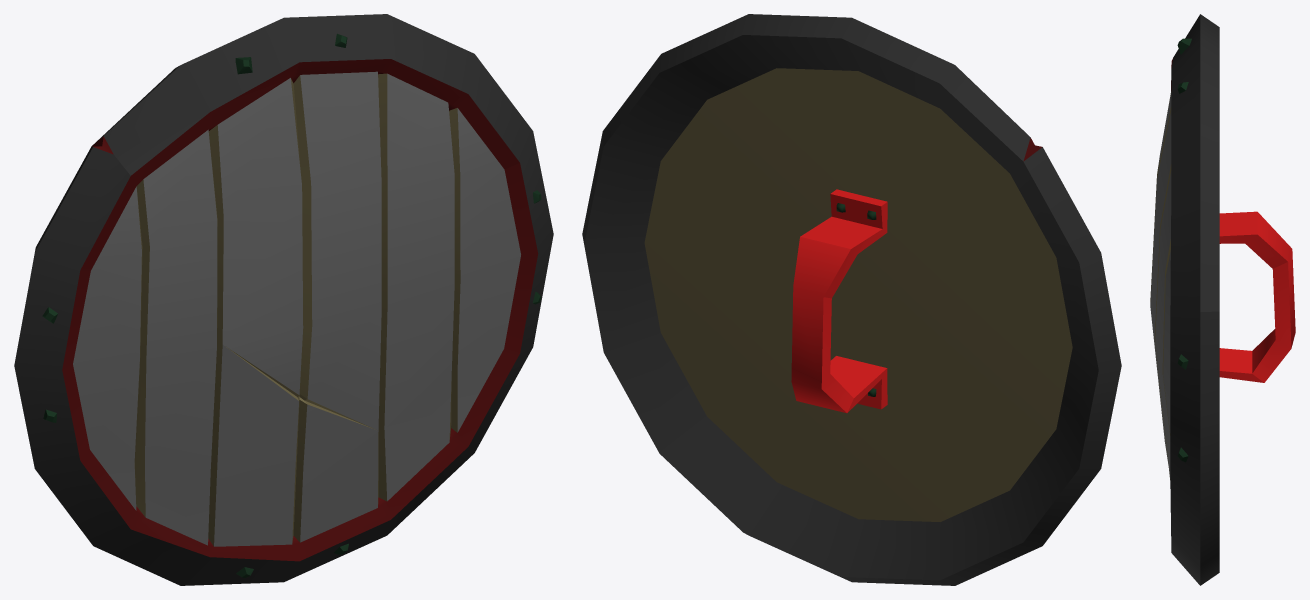
Rendered from PT_Shield_01_a.glb.
3 renders of one model, left to right at view 1: azimuth 30°, elevation 25°; view 2: azimuth 150°, elevation 25°; view 3: azimuth 270°, elevation 25°, orthographic. The views are drawn at different scales.
Visible parts, largest first — view 1: PT_Shield_01_a_body; view 2: PT_Shield_01_a_body, PT_Shield_01_a_handle; view 3: PT_Shield_01_a_body, PT_Shield_01_a_handle.
Part boxes in pixels (<box>): PT_Shield_01_a_body: <box>14,14,553,585</box>; PT_Shield_01_a_body: <box>582,14,1121,585</box>; PT_Shield_01_a_handle: <box>791,189,887,413</box>; PT_Shield_01_a_body: <box>1150,14,1219,585</box>; PT_Shield_01_a_handle: <box>1219,211,1295,382</box>.
Size of the model in its own units: 0.5455 by 0.5455 by 0.1384.
1 material, 1 textured.
